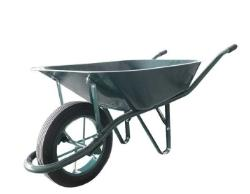BROUETTE: (24, 39, 240, 194)
